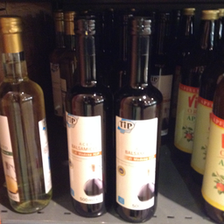vinegar: (111, 16, 166, 222), (1, 16, 55, 214), (65, 14, 111, 218)
